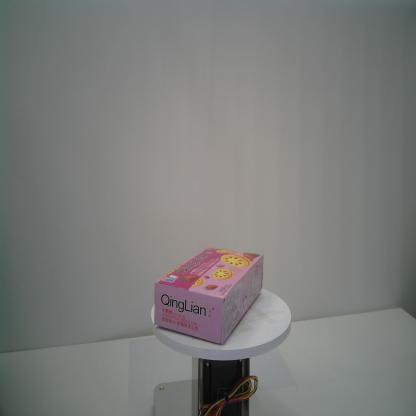Dessert: (152, 244, 265, 348)
